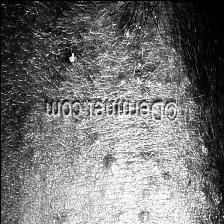Non-Cancerous Skin Condition: (128, 208, 148, 224), (104, 152, 116, 174), (67, 51, 76, 63)
